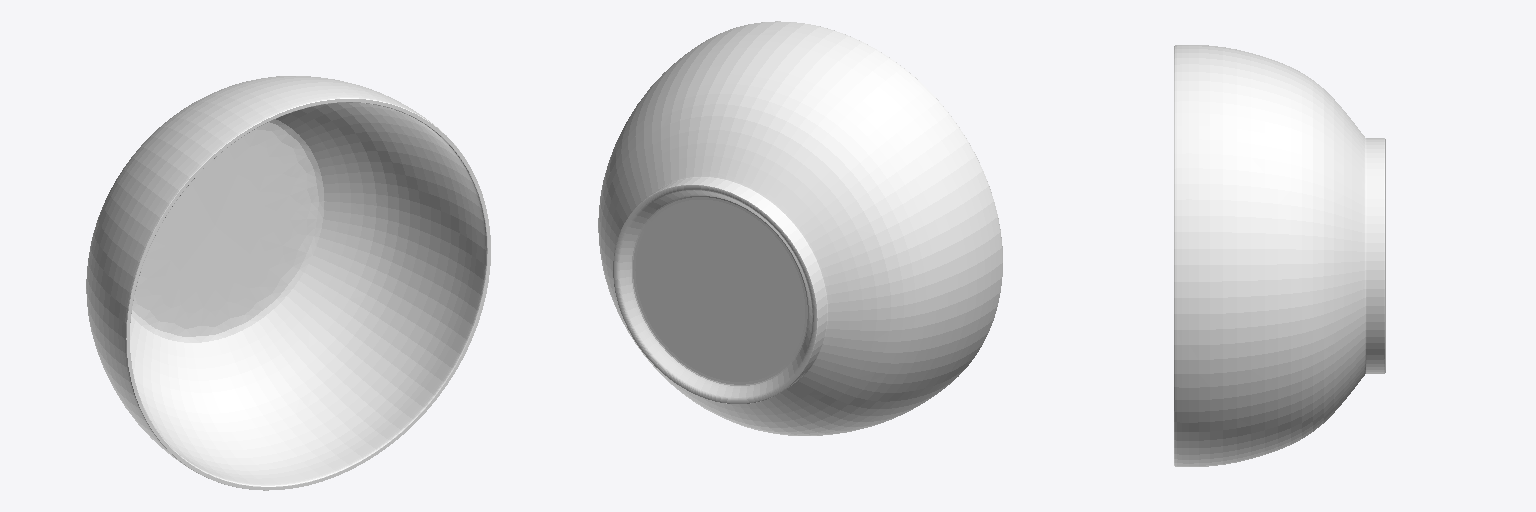
Rendered from SmallBowl.obj.
The picture shows the model from 3 angles: view 1: azimuth 30°, elevation 25°; view 2: azimuth 150°, elevation 25°; view 3: azimuth 270°, elevation 25°; orthographic projection.
Parts seen in each view (by area): view 1: SmallBowl_SM_SmallBowl; view 2: SmallBowl_SM_SmallBowl; view 3: SmallBowl_SM_SmallBowl.
Boxes of the visible parts, x1=… form: SmallBowl_SM_SmallBowl: x1=86, y1=76, x2=490, y2=490; SmallBowl_SM_SmallBowl: x1=598, y1=21, x2=1002, y2=435; SmallBowl_SM_SmallBowl: x1=1174, y1=45, x2=1385, y2=466.
Size of the model in its own units: 0.1333 by 0.1333 by 0.0665.